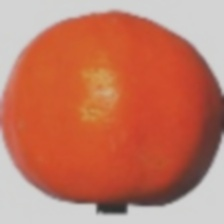tangerine: (11, 22, 208, 164)
